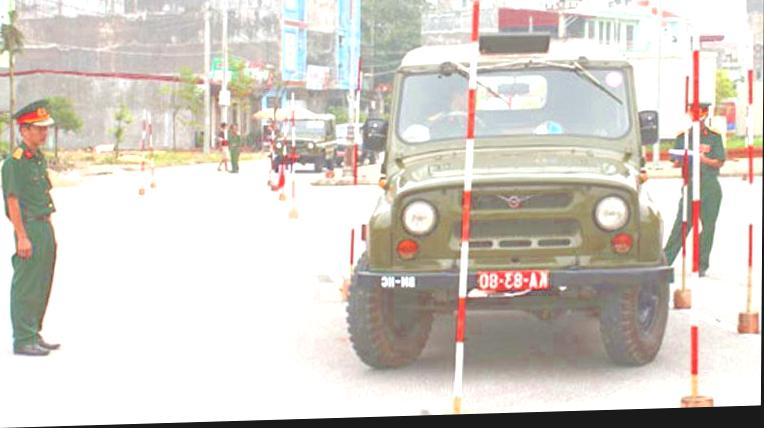License_Plate: (474, 266, 552, 298)
